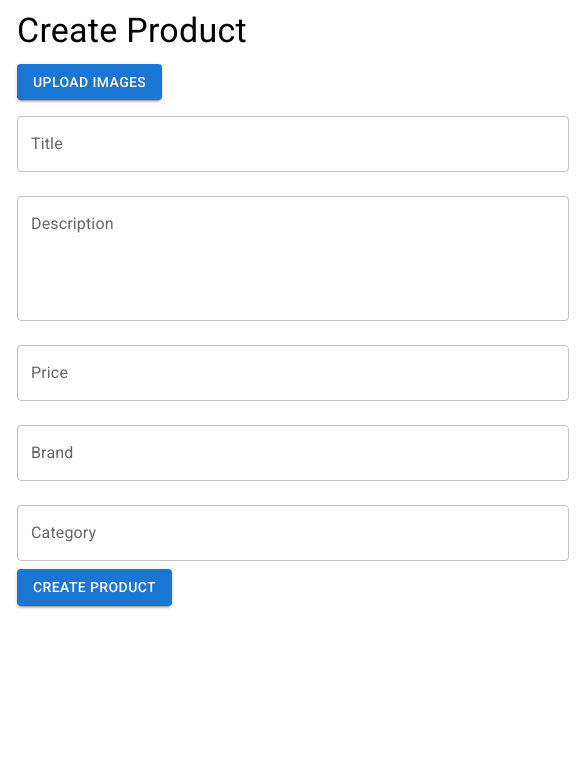
Test: create-product › validates form fields
Step 1. Click the button with test id "submit-btn" → [94, 588], box [17,569,172,606]
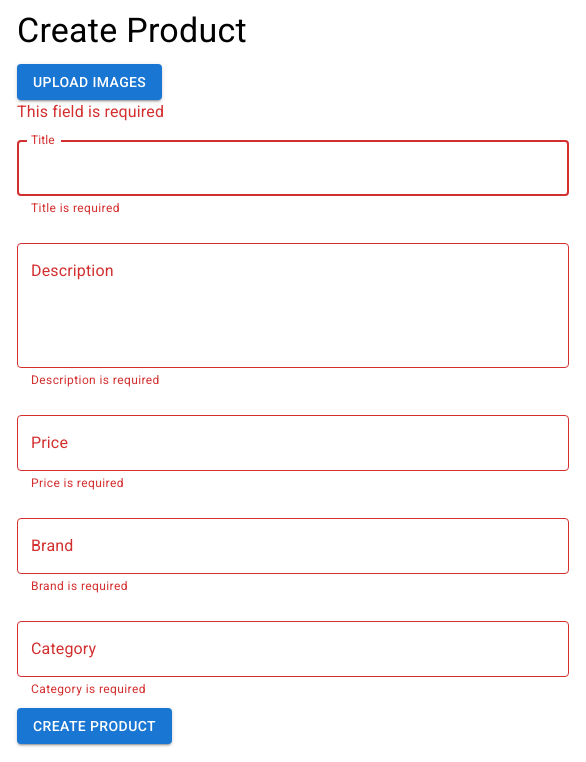
Now the text "Title is required" is shown, box [31,201,120,215]
Now the text "Description is required" is shown, box [31,373,160,387]
Now the text "Price is required" is shown, box [31,476,124,490]
